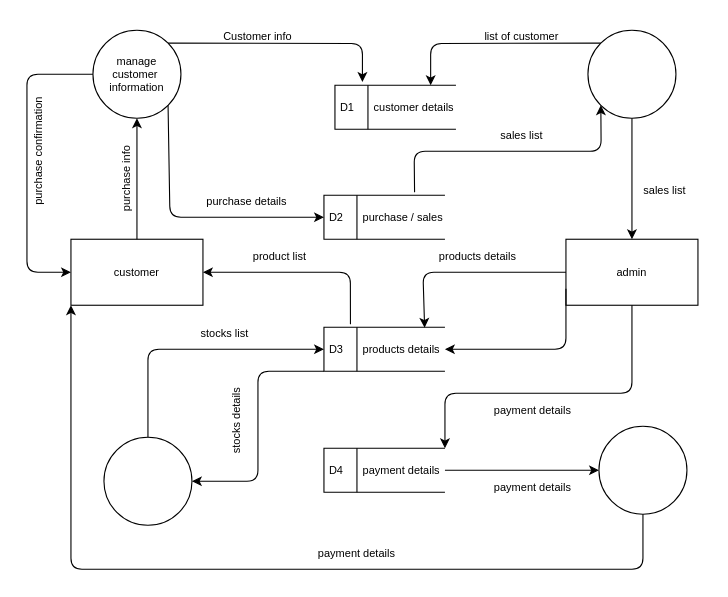
This 728x597 diagram has some shape labels left out. The shapes that lost their labels are listed below. From the top down, each one's centre as x and y in pixels, then its label:
At pixel 631 73: "manage sales information".
At pixel 147 480: "manage stocks".
At pixel 642 469: "manage payment".
